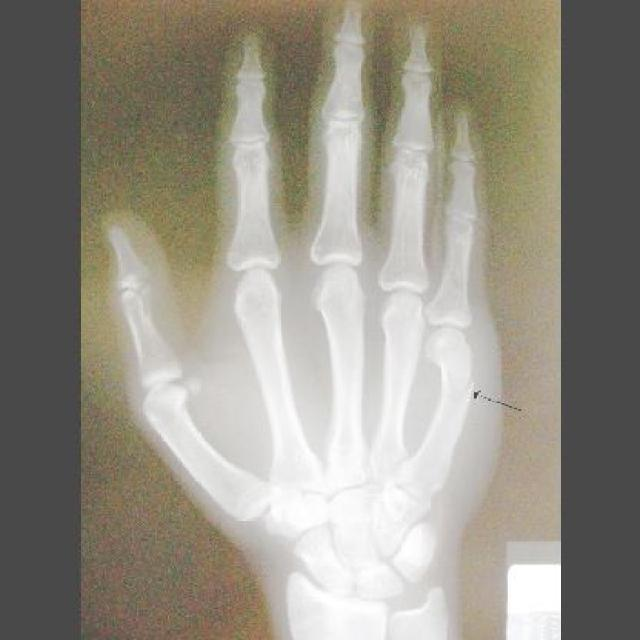Fracture: (434, 371, 480, 408)
